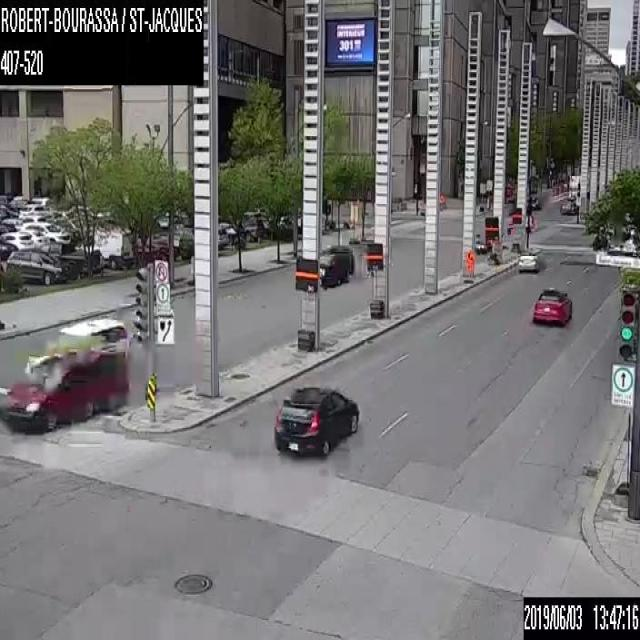construction: (462, 249, 472, 279)
vehicle: (2, 351, 129, 432), (25, 315, 129, 381), (273, 381, 358, 455), (5, 248, 72, 285), (74, 227, 134, 268), (41, 241, 102, 278), (531, 287, 573, 325), (319, 243, 353, 285), (21, 221, 70, 244), (238, 210, 262, 241), (20, 227, 50, 251), (0, 230, 35, 250), (518, 249, 538, 272), (17, 204, 50, 217), (559, 196, 581, 213), (216, 222, 227, 250), (0, 239, 17, 257), (2, 216, 24, 228), (0, 219, 15, 232), (528, 194, 541, 209), (21, 214, 45, 222)
